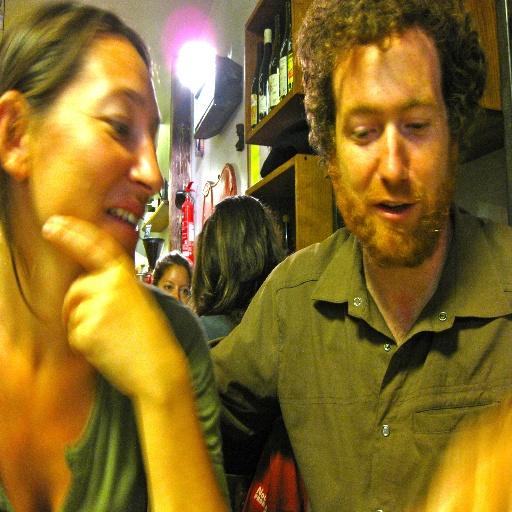hand: (42, 194, 208, 459), (436, 444, 511, 511)
